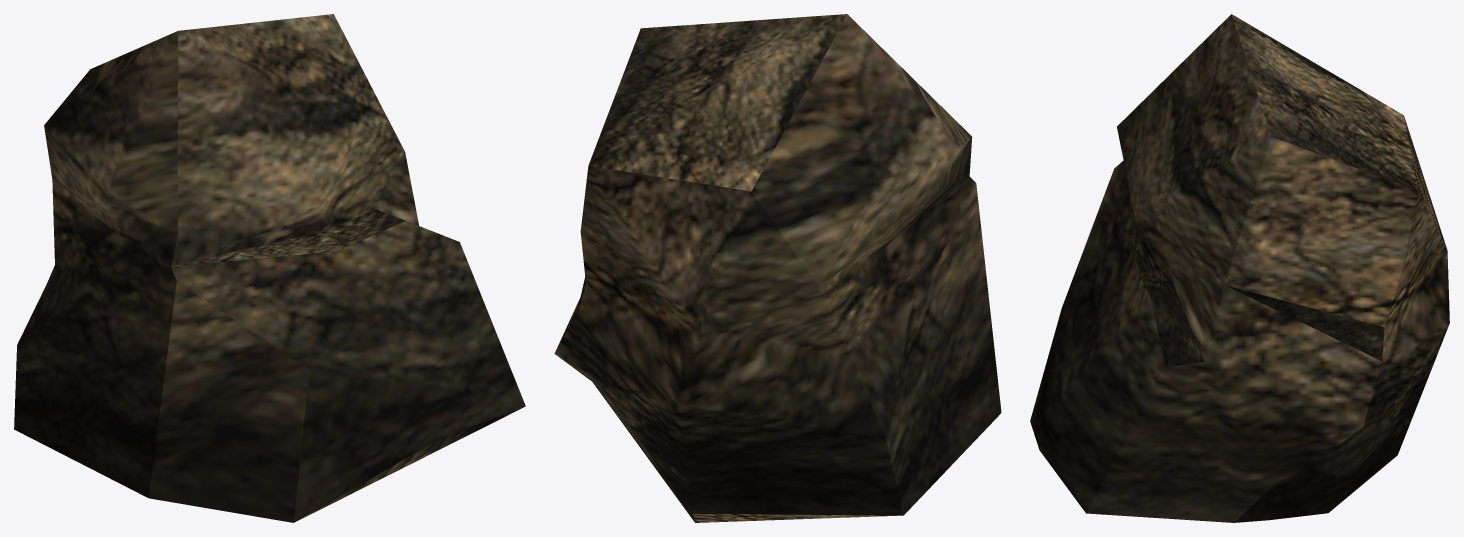
3 views of the same model, side by side, from view 1: azimuth 30°, elevation 25°; view 2: azimuth 150°, elevation 25°; view 3: azimuth 270°, elevation 25° (orthographic). The views are drawn at different scales.
Visible parts, largest first — view 1: wj034; view 2: wj034; view 3: wj034.
Boxes of the visible parts, x1=… form: wj034: x1=14, y1=14, x2=525, y2=522; wj034: x1=554, y1=14, x2=1001, y2=522; wj034: x1=1030, y1=14, x2=1449, y2=522.
Size of the model in its own units: 294 by 349 by 292.
